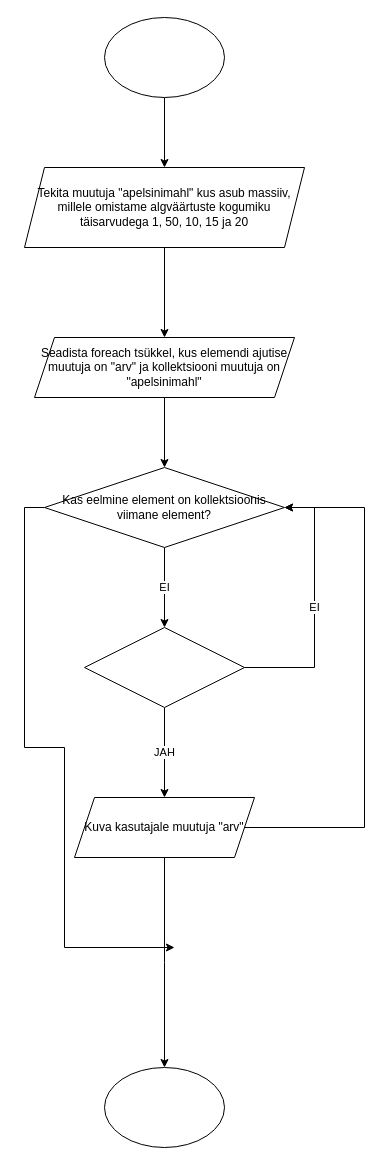
Some shapes in this 390 by 1165 pixel diagram are drawn without their labels. The shapes that lost their labels are listed below. From the top down, each one's box as (x1, y1, x2, y2) in pixels, then its label:
(104, 16, 224, 98): ALGUS
(84, 626, 244, 708): Kas ajutis muutjas "arv" olev väärtus on suurem kui 15?
